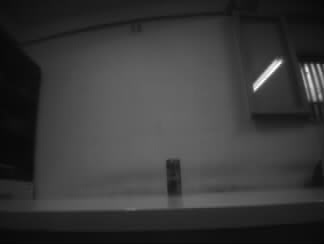Tin can: (164, 157, 180, 204)
